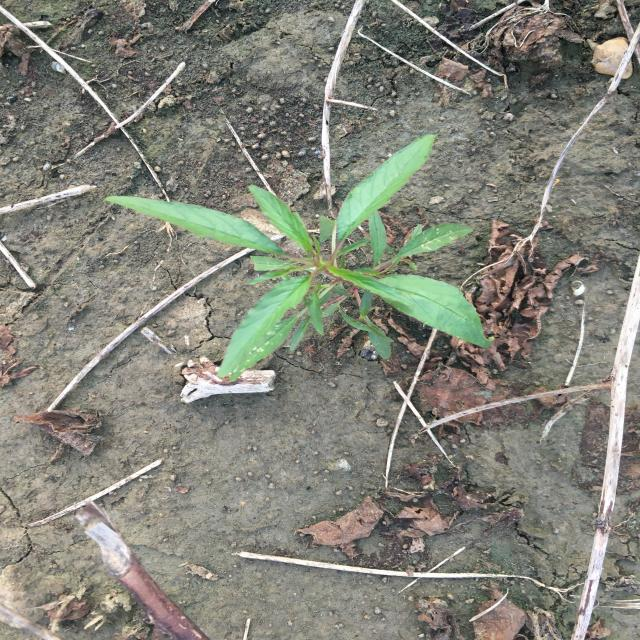Waterhemp: (102, 134, 496, 386)
